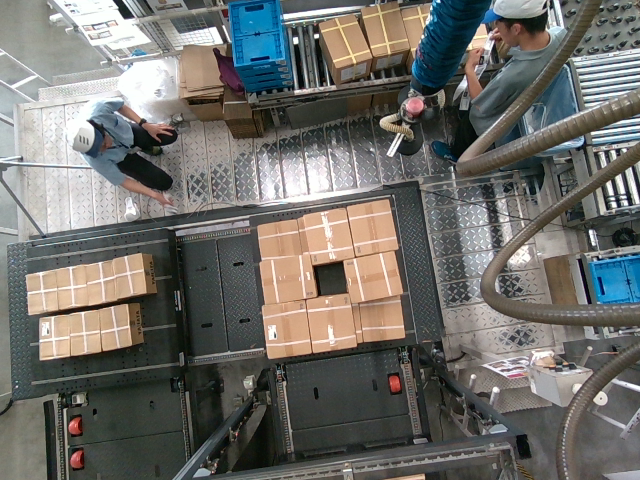box: (258, 301, 310, 356), (346, 199, 396, 255), (303, 210, 353, 262), (342, 253, 401, 295), (307, 298, 354, 350), (259, 257, 315, 298)
